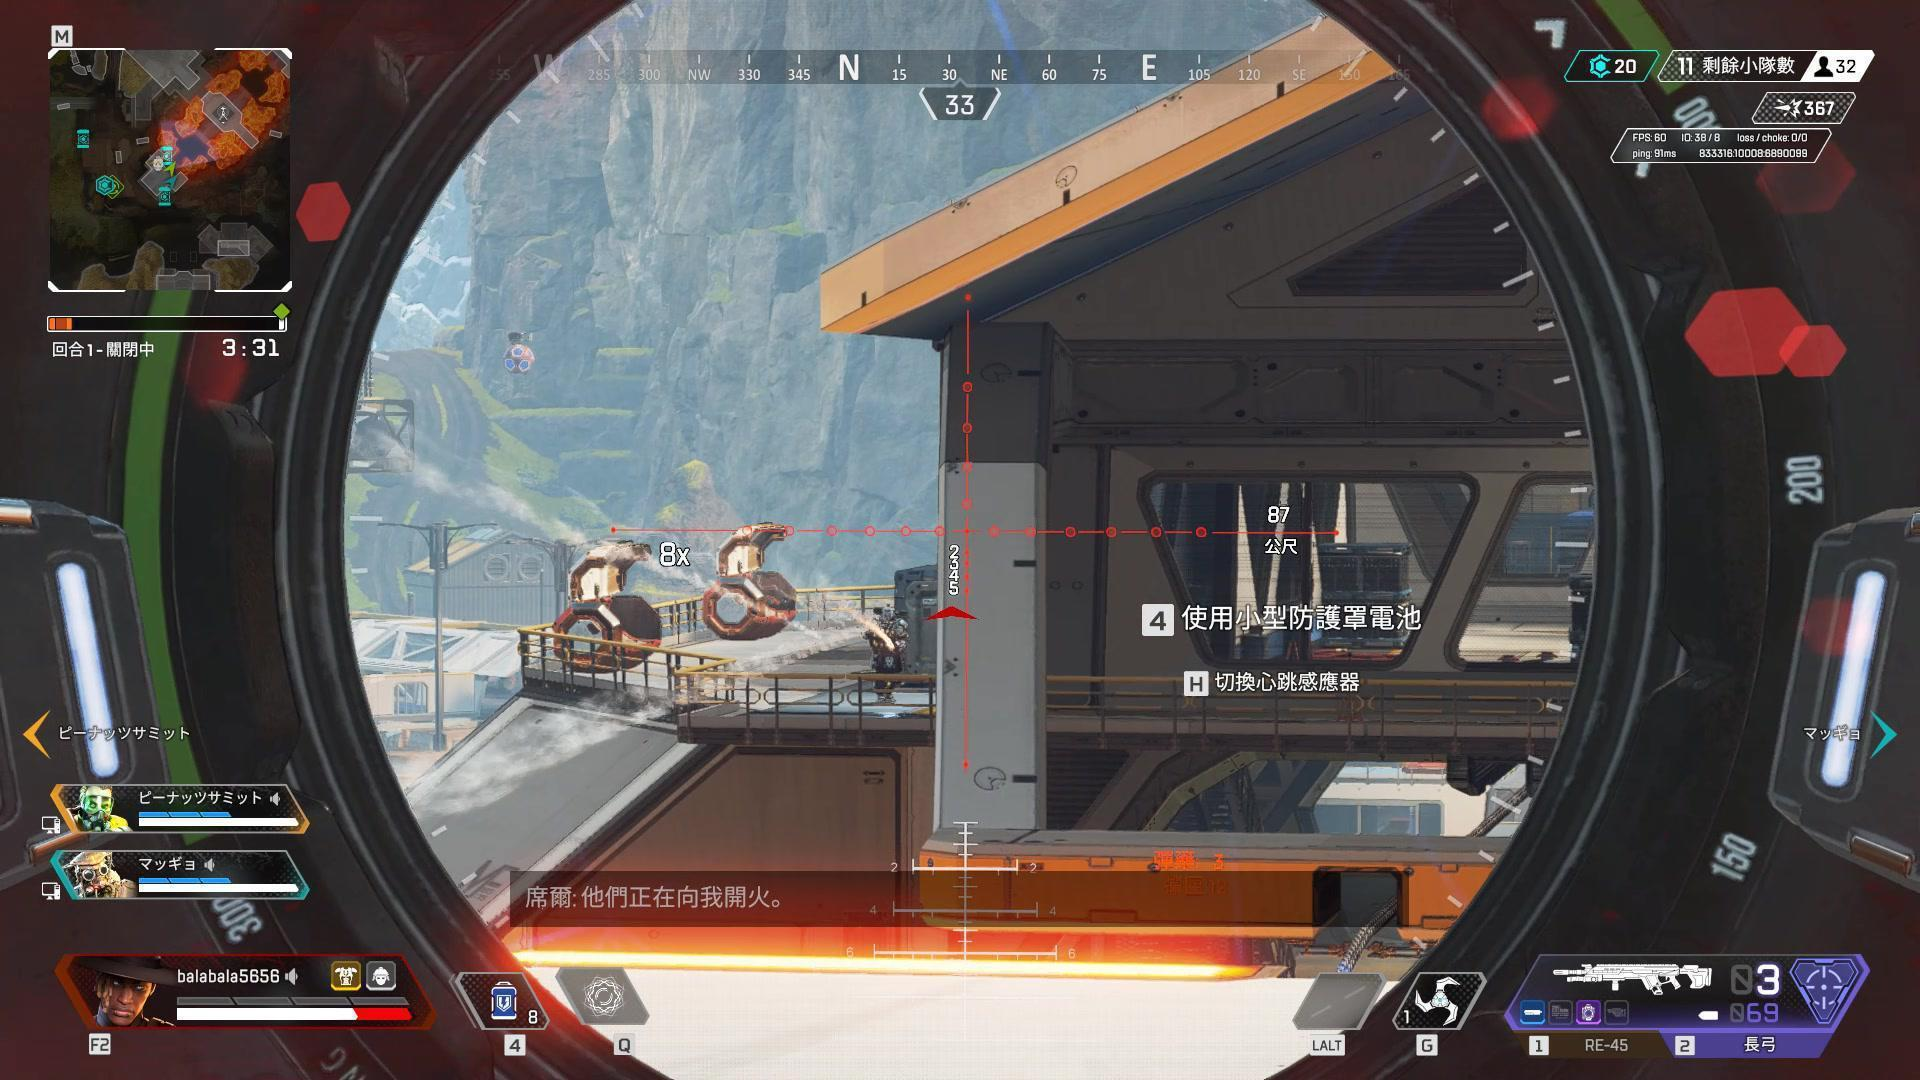avatar: (860, 602, 910, 705)
